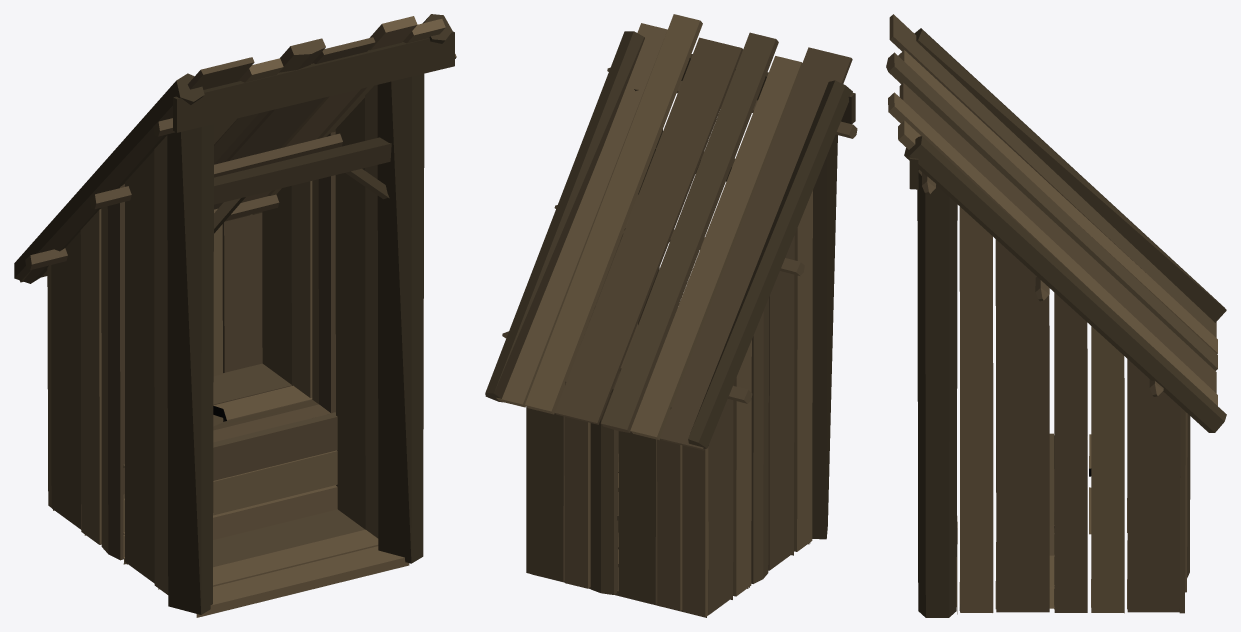
Rendered from EA03_Village_OutBuilding_Convenience_01a.glb.
The picture shows the model from 3 angles, left to right: view 1: azimuth 30°, elevation 25°; view 2: azimuth 150°, elevation 25°; view 3: azimuth 270°, elevation 25°; orthographic projection. The views are drawn at different scales.
Visible parts, largest first — view 1: EA03_Village_OutBuilding_Convenience_01a; view 2: EA03_Village_OutBuilding_Convenience_01a; view 3: EA03_Village_OutBuilding_Convenience_01a.
Boxes of the visible parts, <box> form: EA03_Village_OutBuilding_Convenience_01a: <box>14,14,456,617</box>; EA03_Village_OutBuilding_Convenience_01a: <box>485,14,857,617</box>; EA03_Village_OutBuilding_Convenience_01a: <box>886,14,1226,617</box>.
Size of the model in its own units: 2.64 by 4.76 by 2.91.
1 material, 1 textured.
